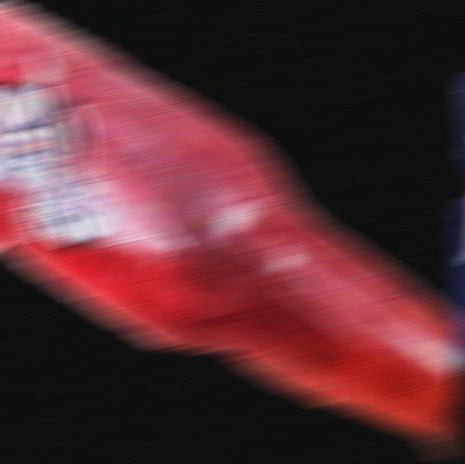piattos cheese: (454, 75, 465, 464)
sting: (0, 1, 464, 464)
